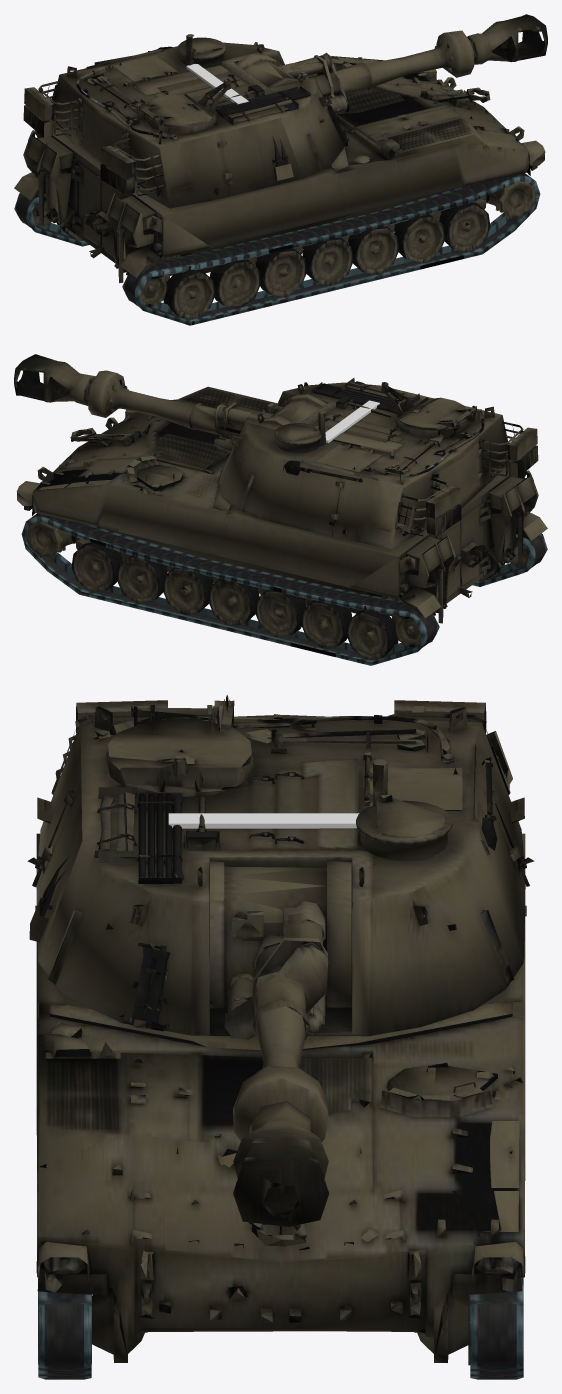
Rendered from paladin.glb.
3 views of the same model, one above another, from view 1: azimuth 30°, elevation 25°; view 2: azimuth 150°, elevation 25°; view 3: azimuth 270°, elevation 25° (orthographic). The views are drawn at different scales.
Parts seen in each view (by area): view 1: g_paladin_hull, g_paladin_turret, g_paladin_gun; view 2: g_paladin_hull, g_paladin_turret, g_paladin_gun; view 3: g_paladin_turret, g_paladin_hull, g_paladin_gun.
Boxes of the visible parts, x1,y1,x2,y2 form: g_paladin_hull: (14, 56, 545, 325); g_paladin_turret: (23, 14, 547, 208); g_paladin_gun: (178, 37, 309, 123); g_paladin_hull: (16, 386, 547, 665); g_paladin_turret: (14, 354, 538, 548); g_paladin_gun: (214, 382, 414, 453); g_paladin_turret: (27, 695, 534, 1226); g_paladin_hull: (35, 822, 526, 1379); g_paladin_gun: (98, 792, 452, 1036).
Bounding box in the file's own units: 9.69 × 4.07 × 4.52.
Materials: 4 (3 with a texture image).
